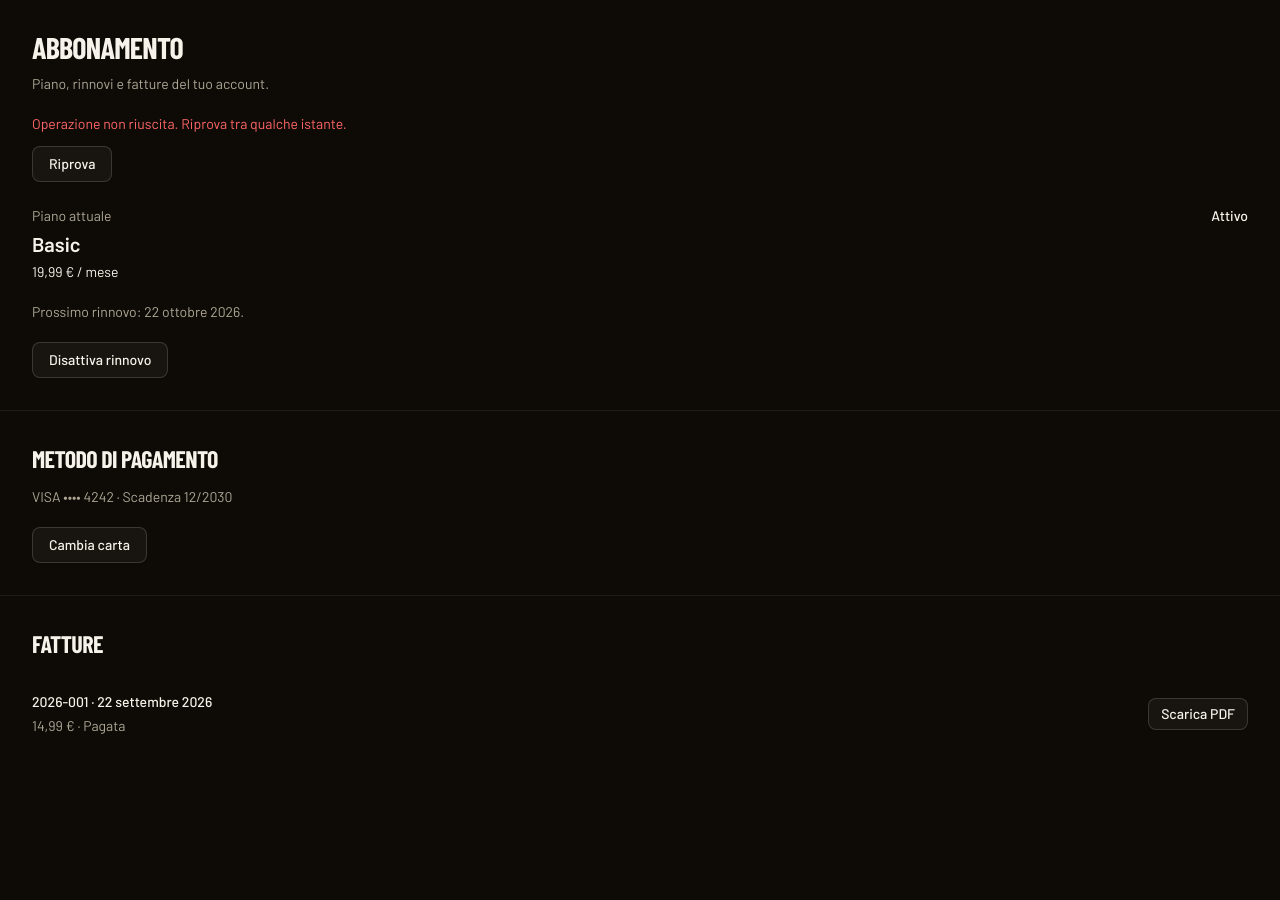
it: BillingSection › keeps a succeeded return retryable when the ownership confirmation fails
This screenshot has width=1280, height=900.
Check: the heading "Basic" is shown, box [32,232,80,256]
Check: the text "Carta aggiornata." is not shown
Click the button "Riprova" at (72, 164), box [32,146,112,182]
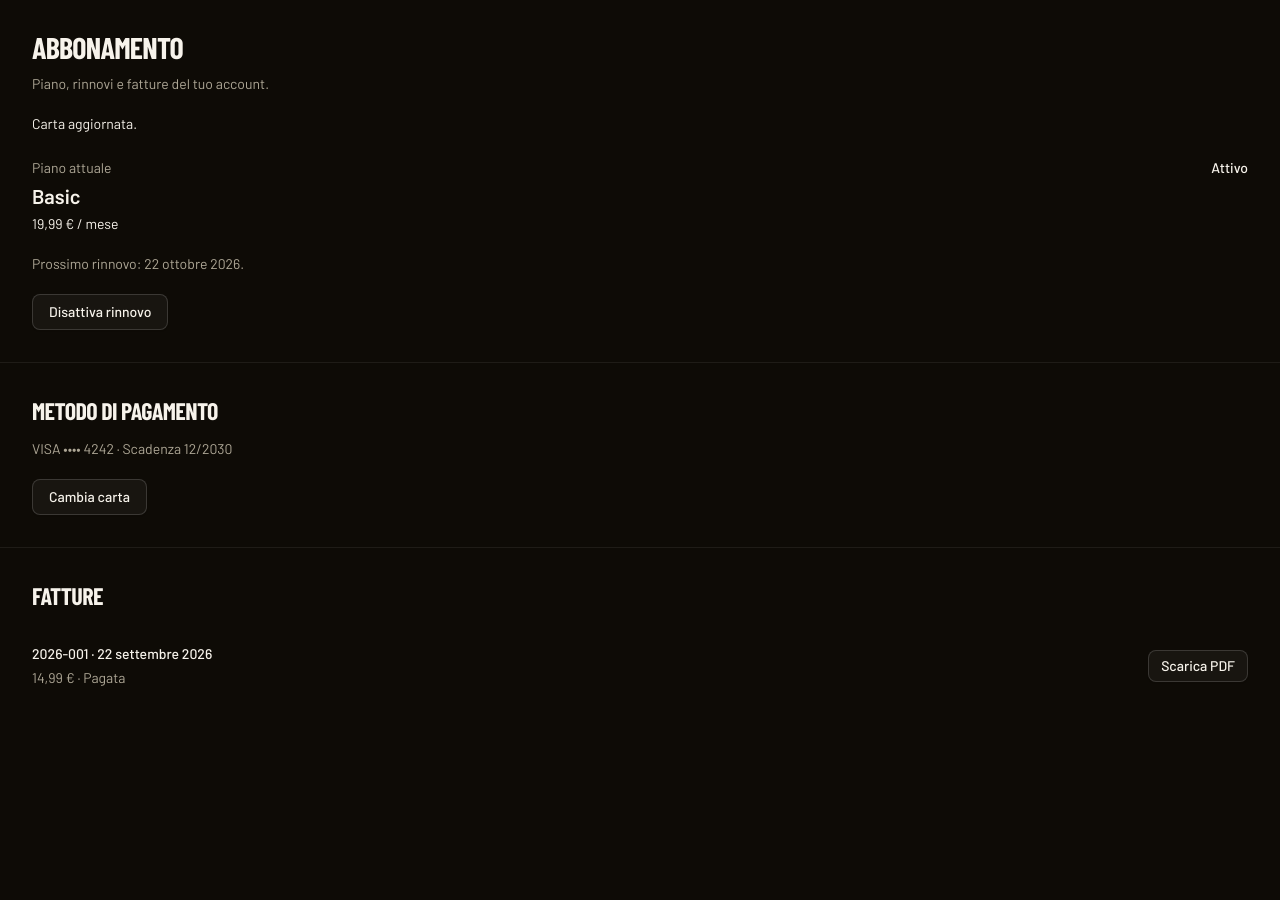
Check: the text "Carta aggiornata." is shown, box [32,115,137,132]
